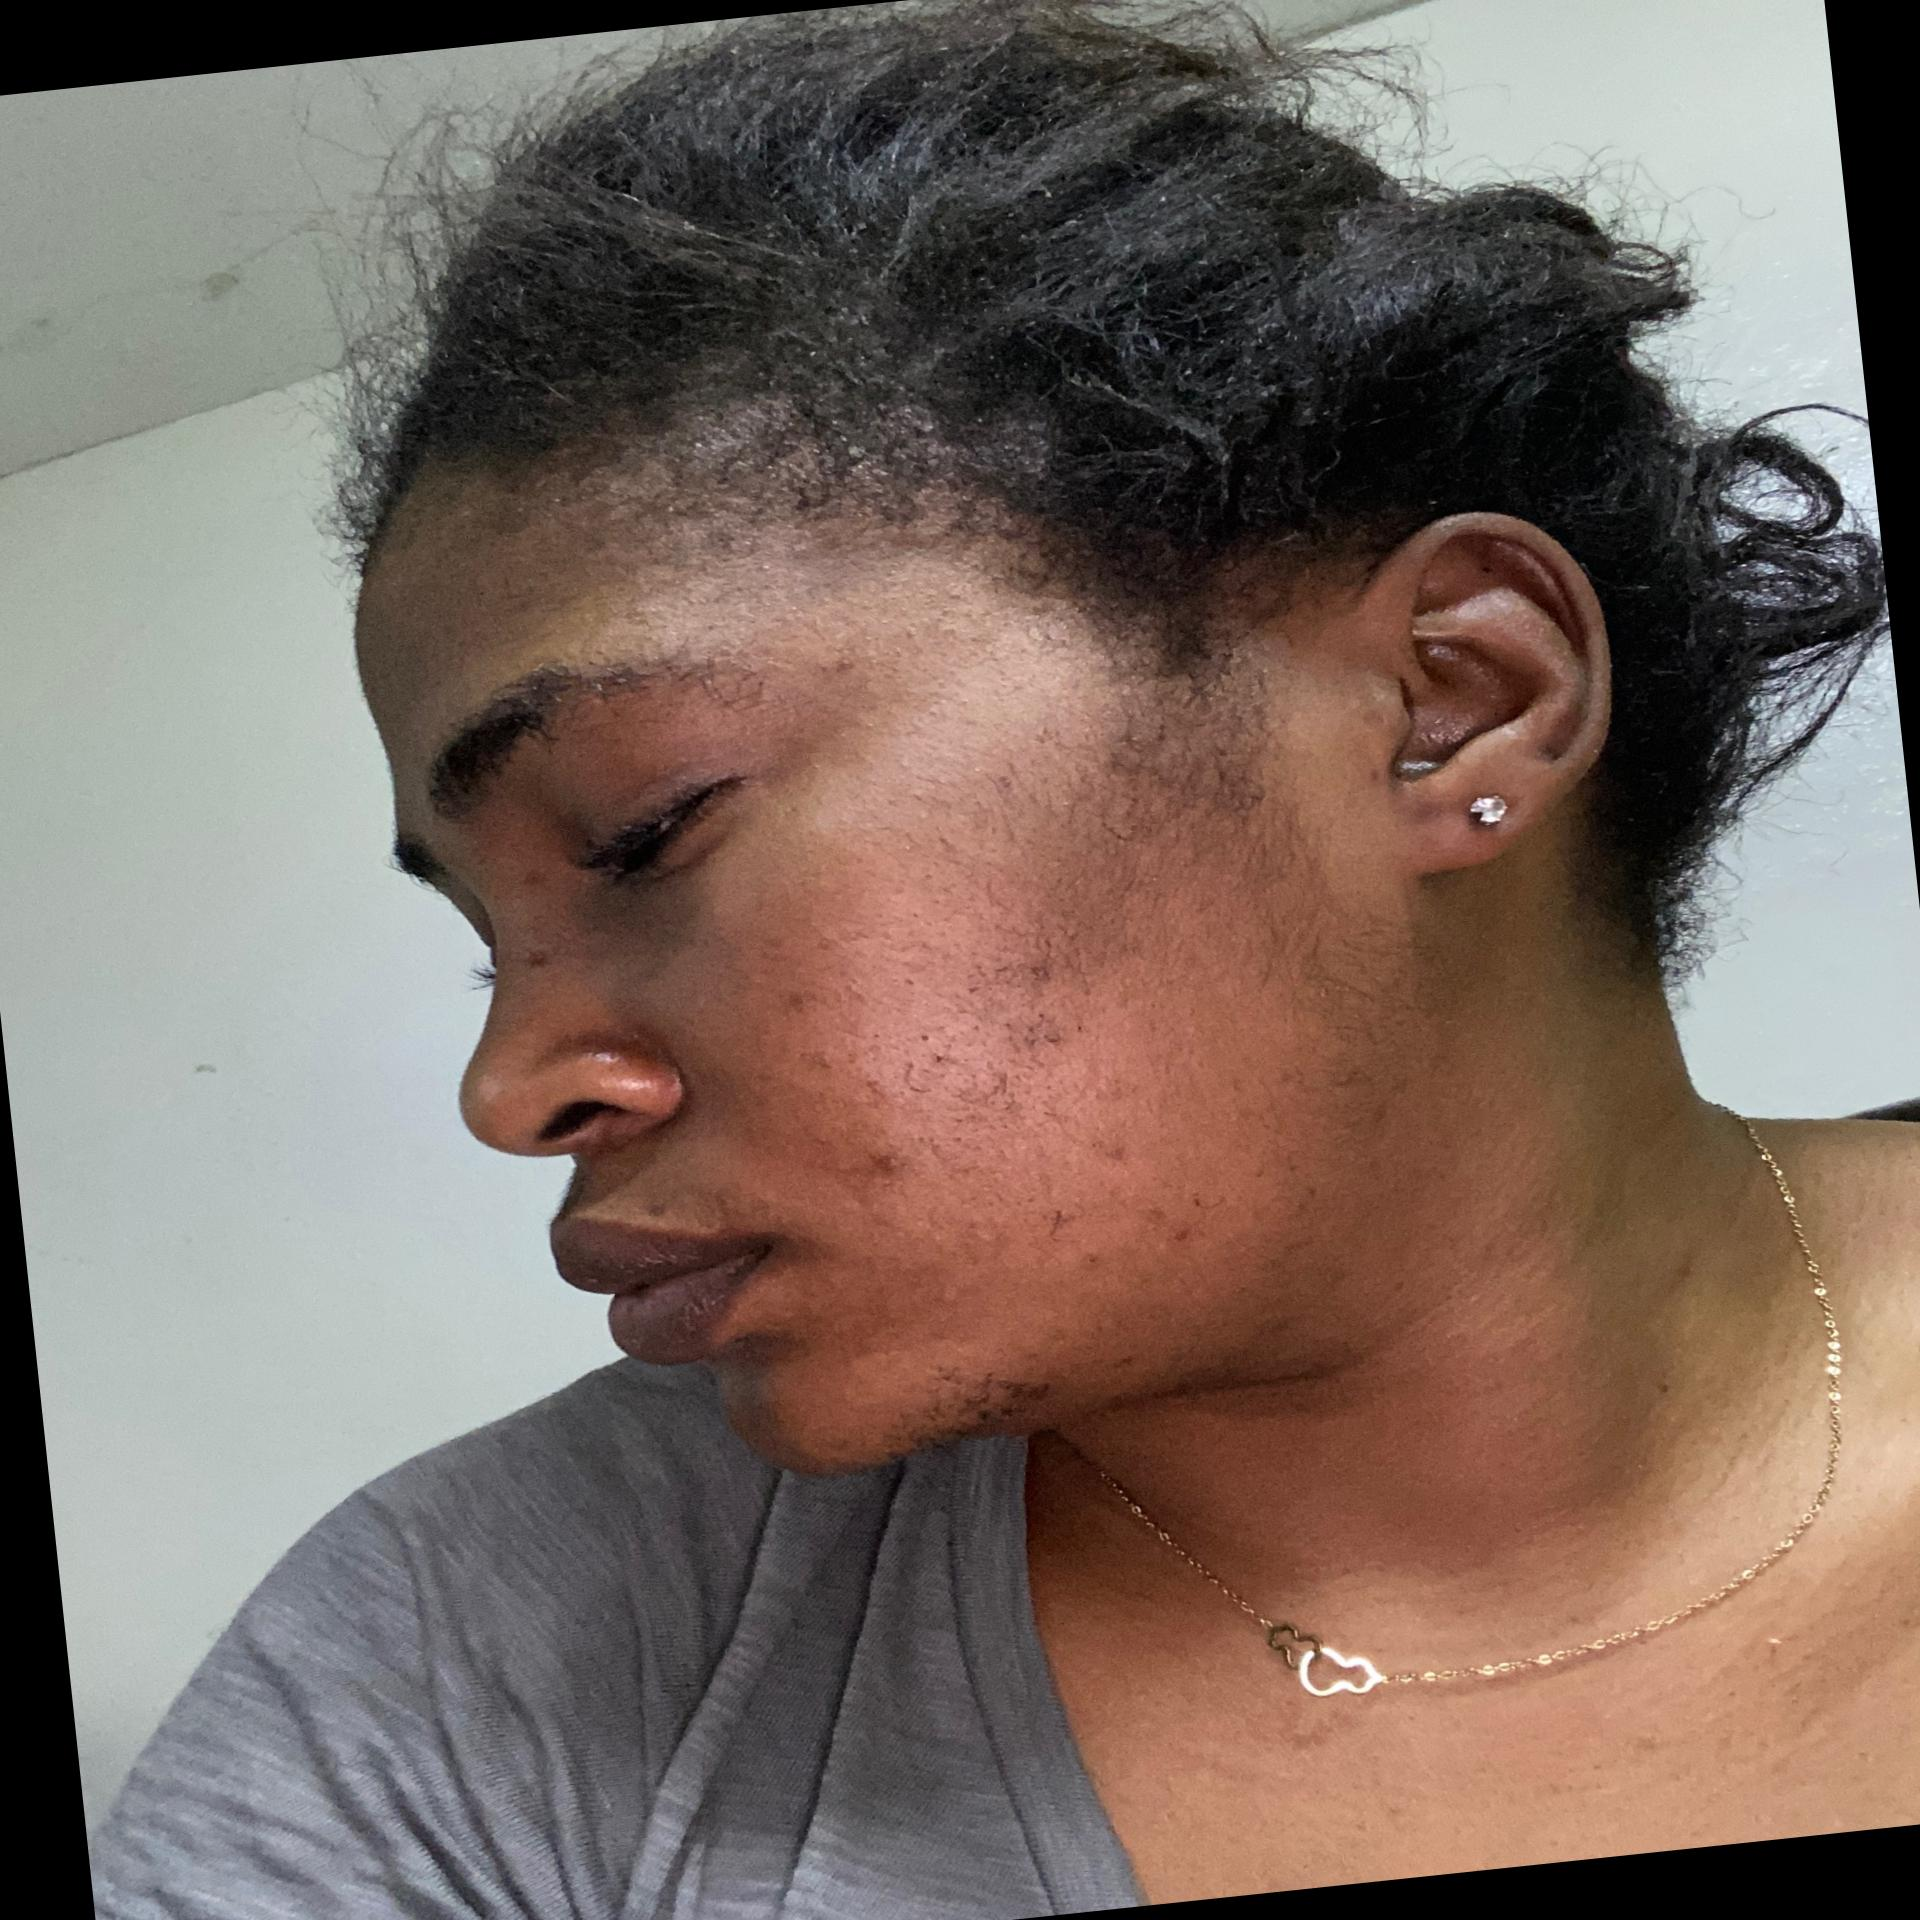Acne: (1139, 1201, 1199, 1254), (863, 1146, 911, 1182), (519, 941, 559, 974), (782, 986, 816, 1018), (638, 1197, 672, 1222)
Blackhead: (862, 992, 1083, 1094), (874, 578, 1029, 710), (860, 877, 967, 995)
